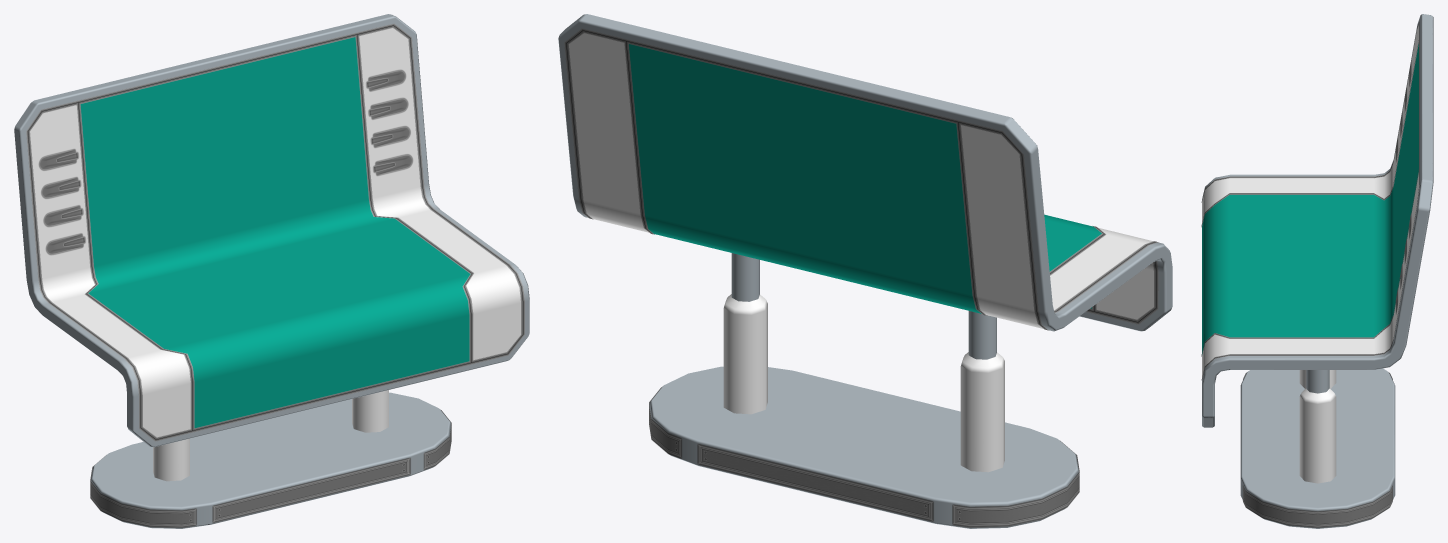
File: scifi-furniture-05.glb
3 views of the same model, side by side, from view 1: azimuth 30°, elevation 25°; view 2: azimuth 150°, elevation 25°; view 3: azimuth 270°, elevation 25° (orthographic). The views are drawn at different scales.
Visible parts, largest first — view 1: scifi-furniture-05; view 2: scifi-furniture-05; view 3: scifi-furniture-05.
Boxes of the visible parts, x1,y1,x2,y2 form: scifi-furniture-05: [14, 14, 529, 528]; scifi-furniture-05: [558, 14, 1172, 528]; scifi-furniture-05: [1201, 14, 1433, 528].
Bounding box in the file's own units: 0.8731 × 0.7797 × 0.4628.
Materials: 4 (1 with a texture image).
